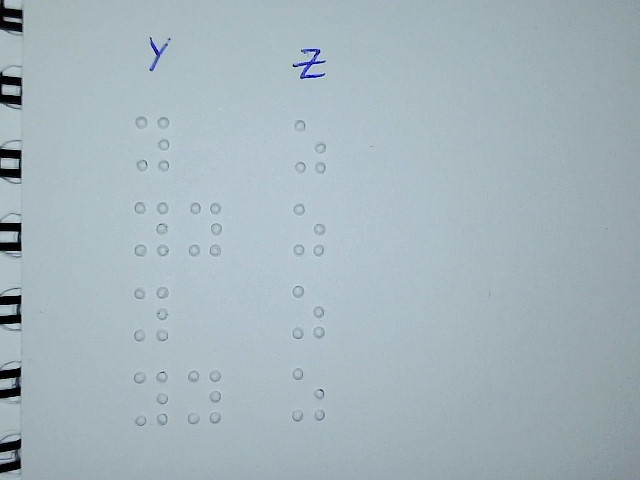Y: (133, 113, 171, 172), (186, 199, 224, 258), (185, 367, 223, 426), (133, 285, 171, 344), (133, 199, 171, 258)
Z: (292, 117, 328, 175), (291, 201, 327, 259), (290, 283, 326, 341), (291, 365, 327, 423)
